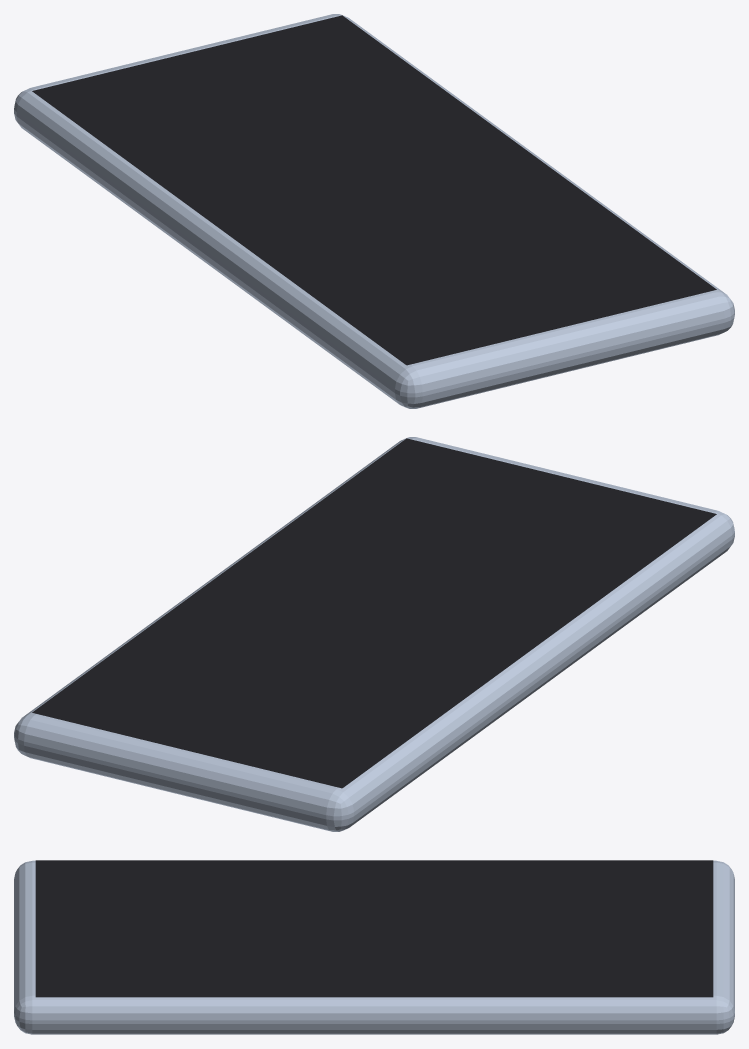
The model's file is tecno-camon-model-405-flagship-2023.glb.
3 renders of one model, top to bottom at view 1: azimuth 30°, elevation 25°; view 2: azimuth 150°, elevation 25°; view 3: azimuth 270°, elevation 25°, orthographic. The views are drawn at different scales.
Parts seen in each view (by area): view 1: Phone_Screen, Phone_Body; view 2: Phone_Screen, Phone_Body; view 3: Phone_Screen, Phone_Body.
Boxes of the visible parts, left/top/right/bottom form: Phone_Screen: left=32, top=15, right=716, bottom=365; Phone_Body: left=14, top=14, right=734, bottom=408; Phone_Screen: left=32, top=438, right=716, bottom=788; Phone_Body: left=14, top=437, right=734, bottom=831; Phone_Screen: left=35, top=860, right=713, bottom=997; Phone_Body: left=14, top=860, right=734, bottom=1034.
Bounding box in the file's own units: 0.0737 × 0.0087 × 0.1508.
